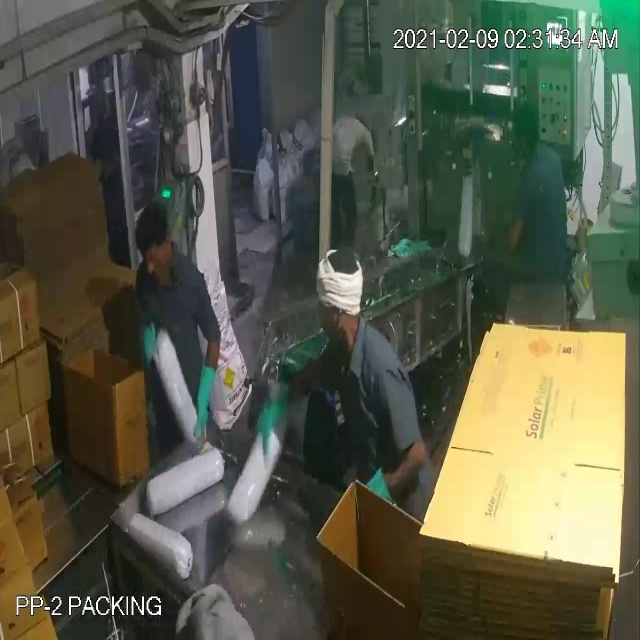Guantes: (251, 359, 299, 470), (192, 346, 224, 453), (126, 315, 164, 380)
